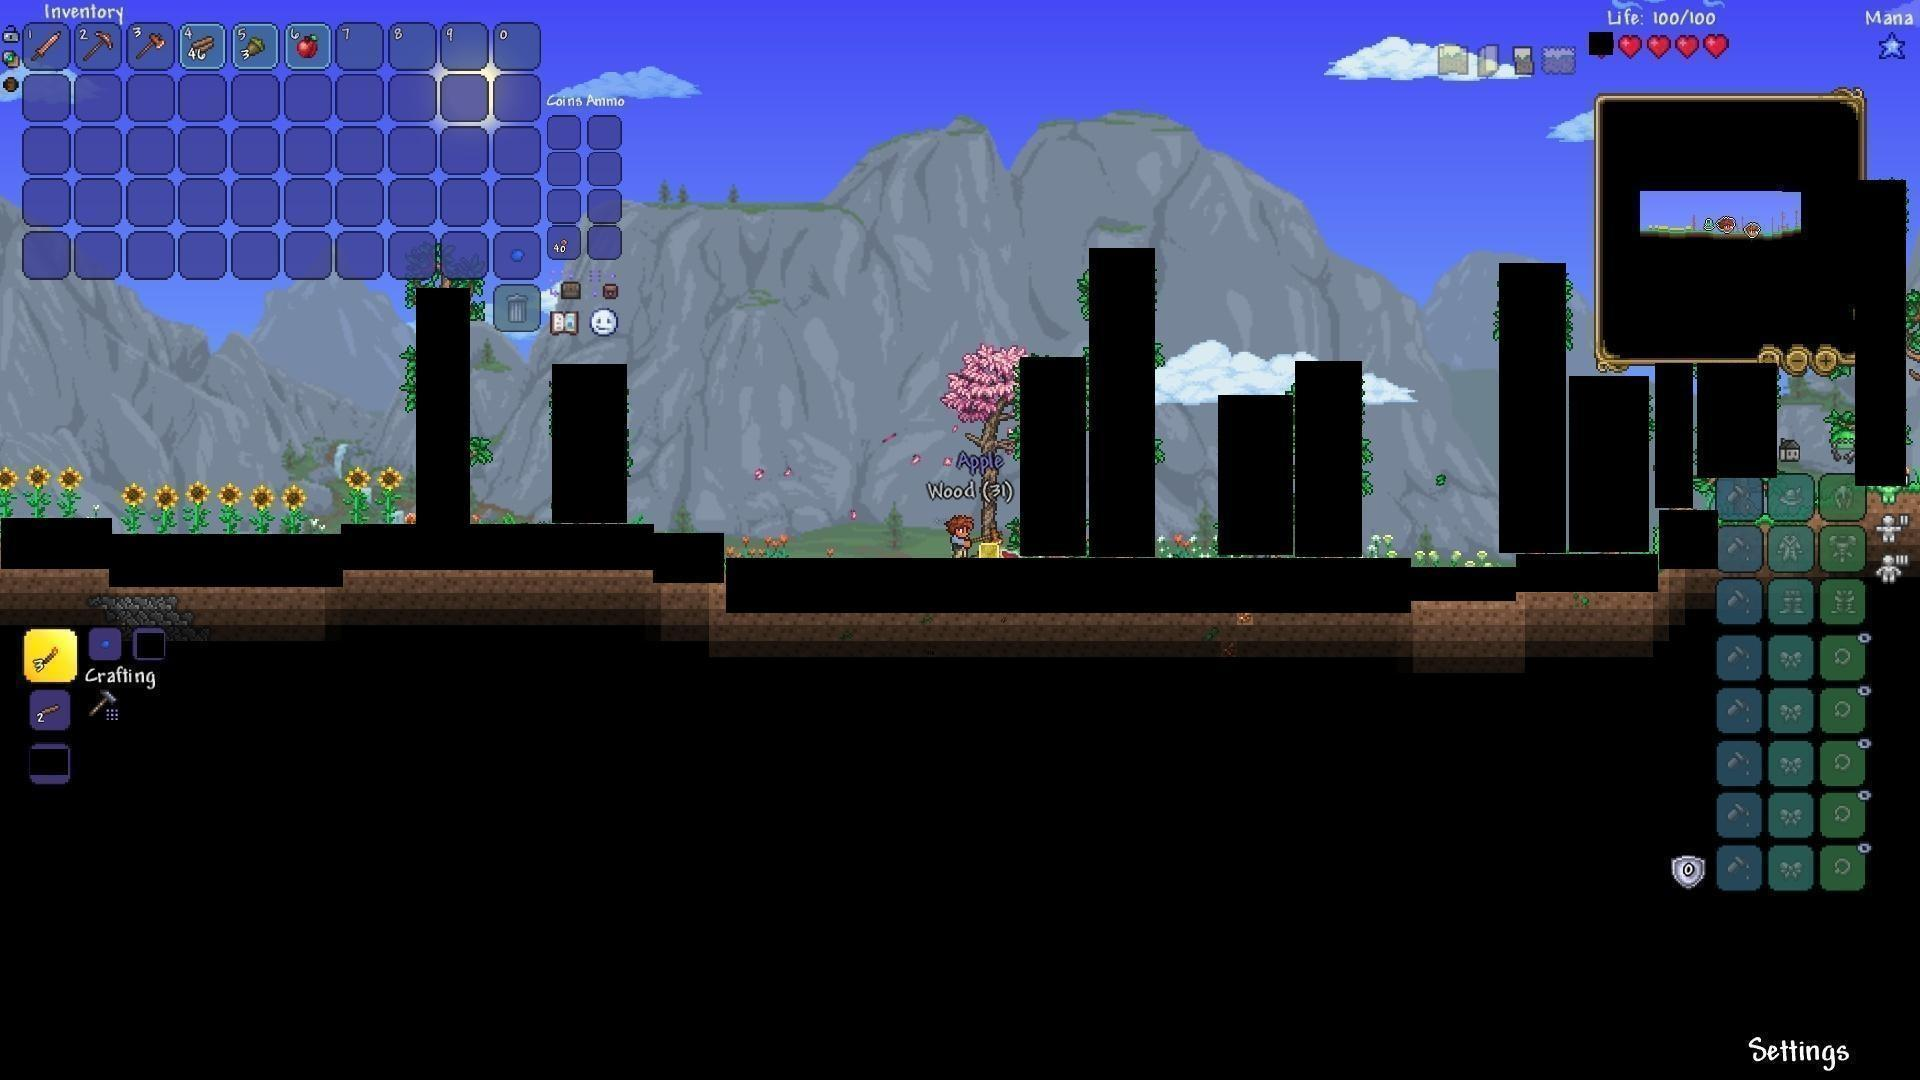heart: (1673, 33, 1698, 58), (1647, 33, 1671, 58), (1704, 33, 1727, 57), (1615, 32, 1639, 55)
tree: (945, 334, 1015, 554)
wood: (189, 34, 215, 59)
